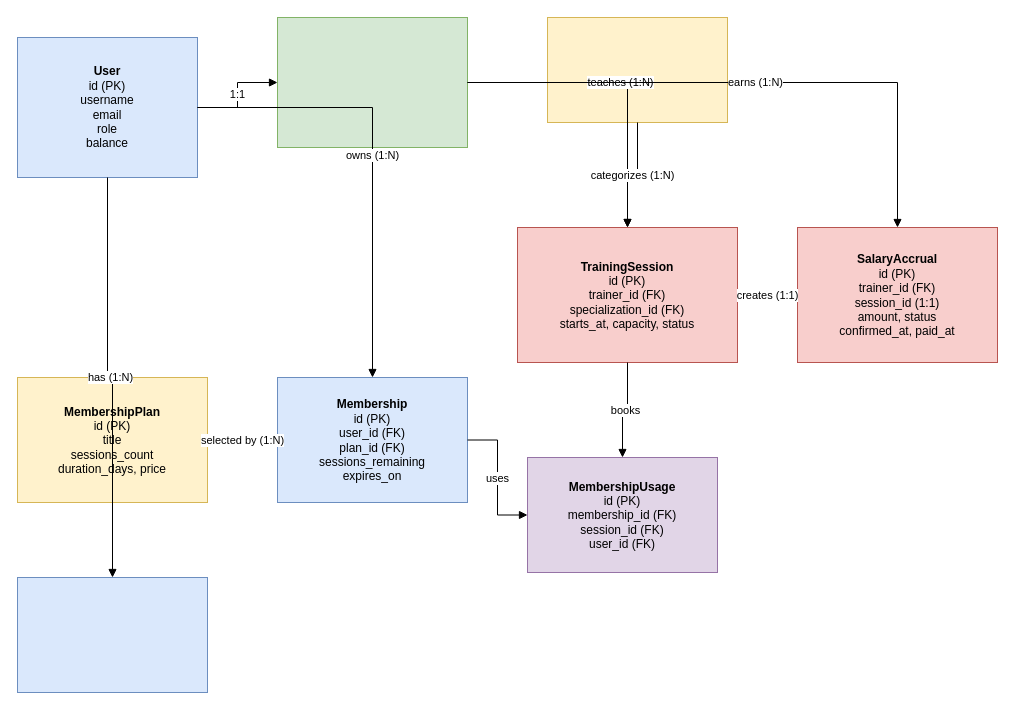
Some shapes in this 1015 by 710 pixel diagram are drawn without their labels. Each missing label, with the box of its shape:
BalanceTransaction id (PK) user_id (FK) amount, kind description: (16, 576, 208, 692)
Specialization id (PK) name description: (546, 16, 728, 122)
Trainer id (PK) user_id (1:1, nullable) name rate_per_participant: (276, 16, 468, 148)
